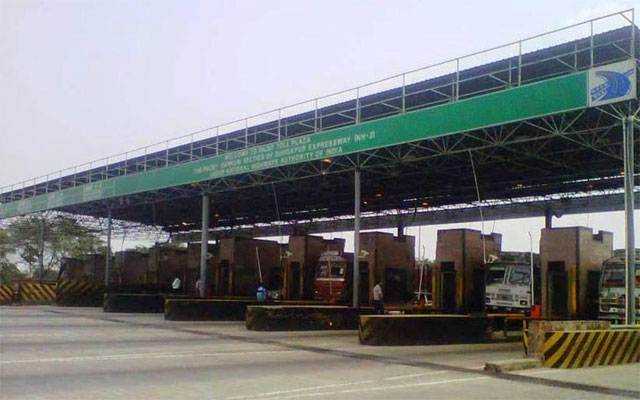toll plaza: (5, 46, 640, 351)
